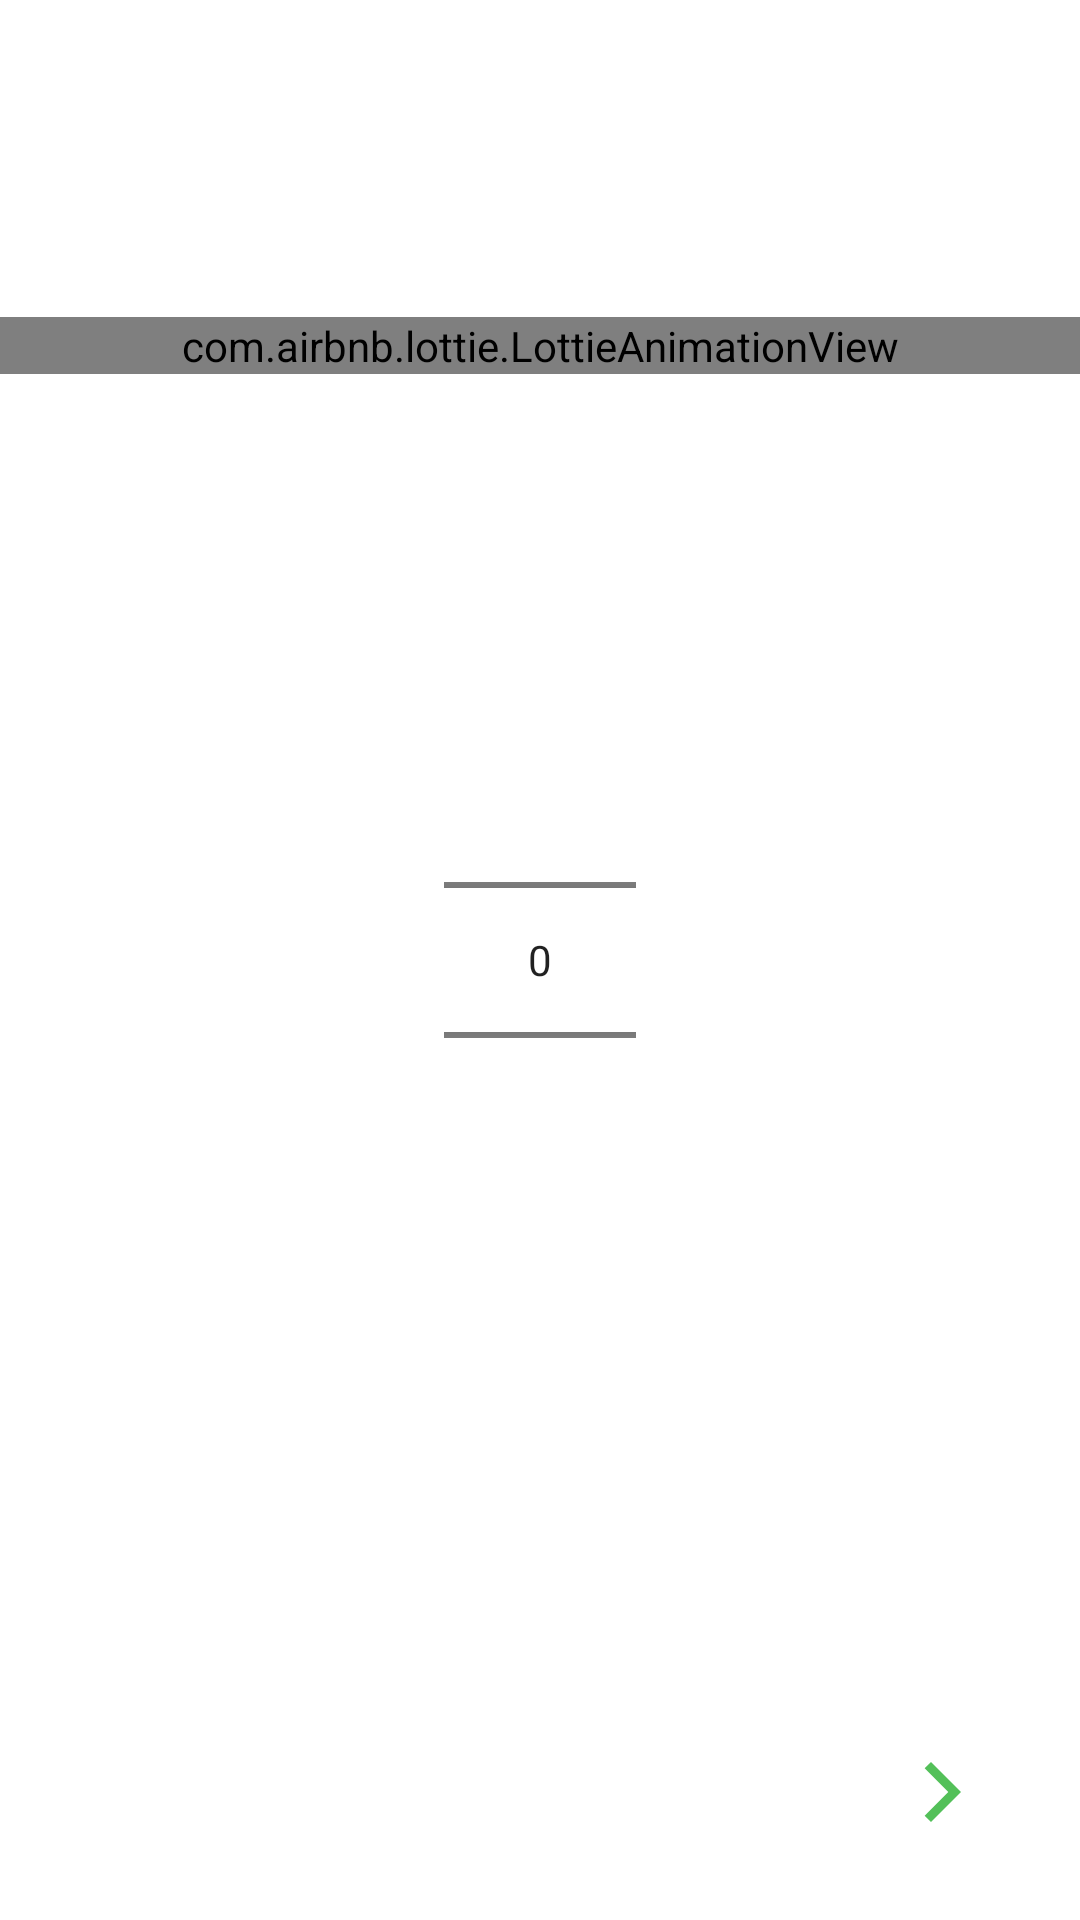

Named icons in this screenshot (1080 x 1920) and their bounding boxes, BBox(x1, y1, x2, y2):
arrow: BBox(925, 1762, 961, 1822)
